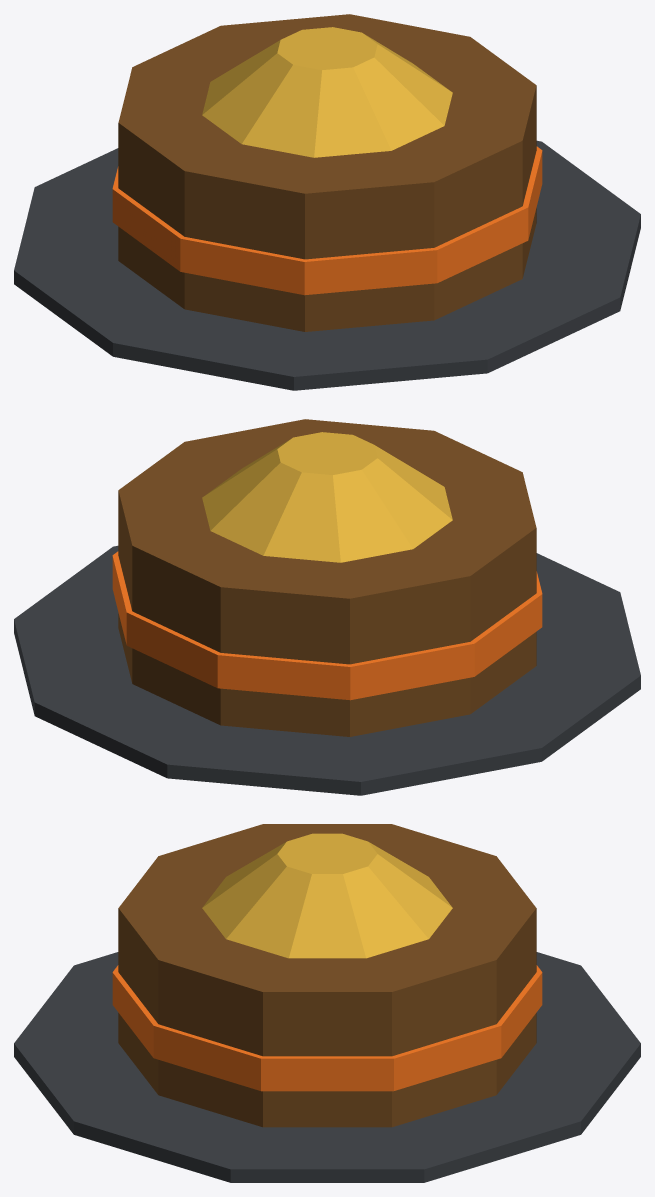
The model's file is PR_BladeHub.fbx.
3 views of the same model, one above another, from view 1: azimuth 30°, elevation 25°; view 2: azimuth 150°, elevation 25°; view 3: azimuth 270°, elevation 25° (orthographic). The views are drawn at different scales.
Parts seen in each view (by area): view 1: PR_BladeHub; view 2: PR_BladeHub; view 3: PR_BladeHub.
Part boxes in pixels (x1,y1,x2,y2): PR_BladeHub: [14, 14, 640, 390]; PR_BladeHub: [14, 419, 640, 795]; PR_BladeHub: [14, 824, 640, 1182].
Size of the model in its own units: 2 by 2.1 by 0.75.
